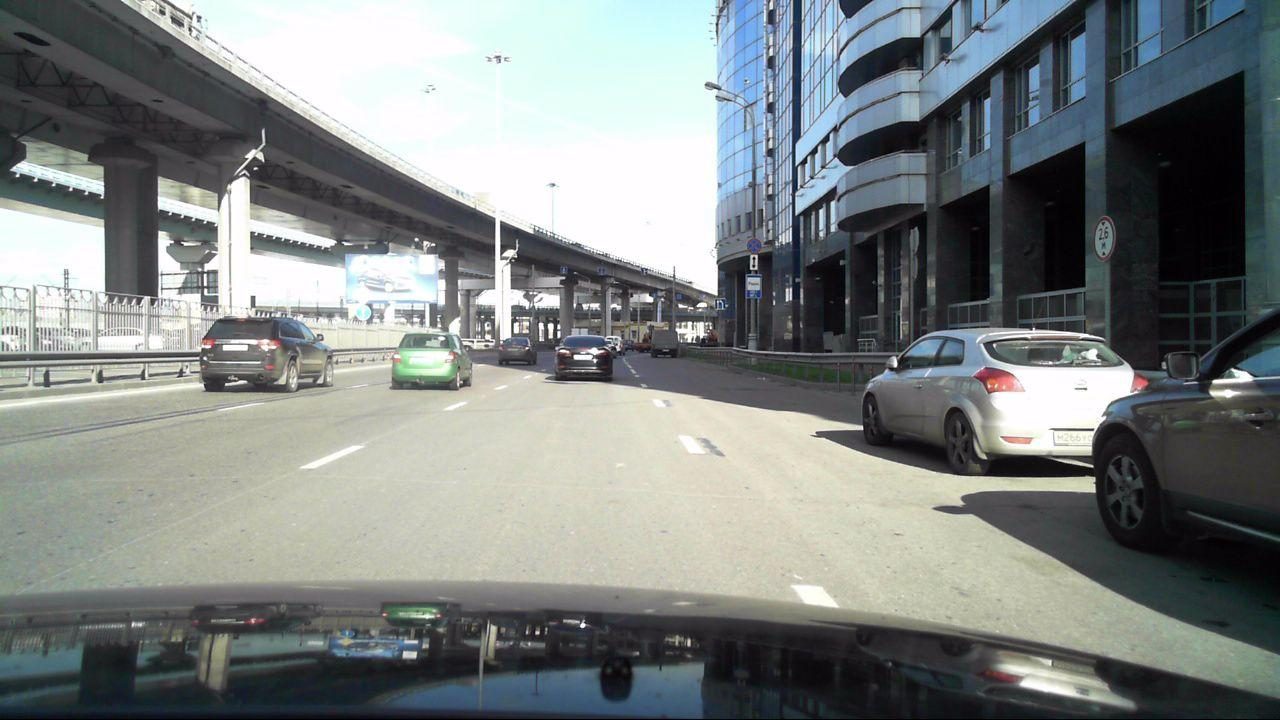3_13: (1092, 215, 1116, 261)
3_27: (747, 238, 762, 253)
5_15_2: (596, 265, 607, 276), (559, 266, 569, 274), (641, 267, 648, 275), (676, 293, 682, 299), (652, 293, 657, 298)
5_15_5: (714, 297, 727, 311)
7_15: (745, 273, 764, 298)
8_2_4: (750, 254, 759, 270)
